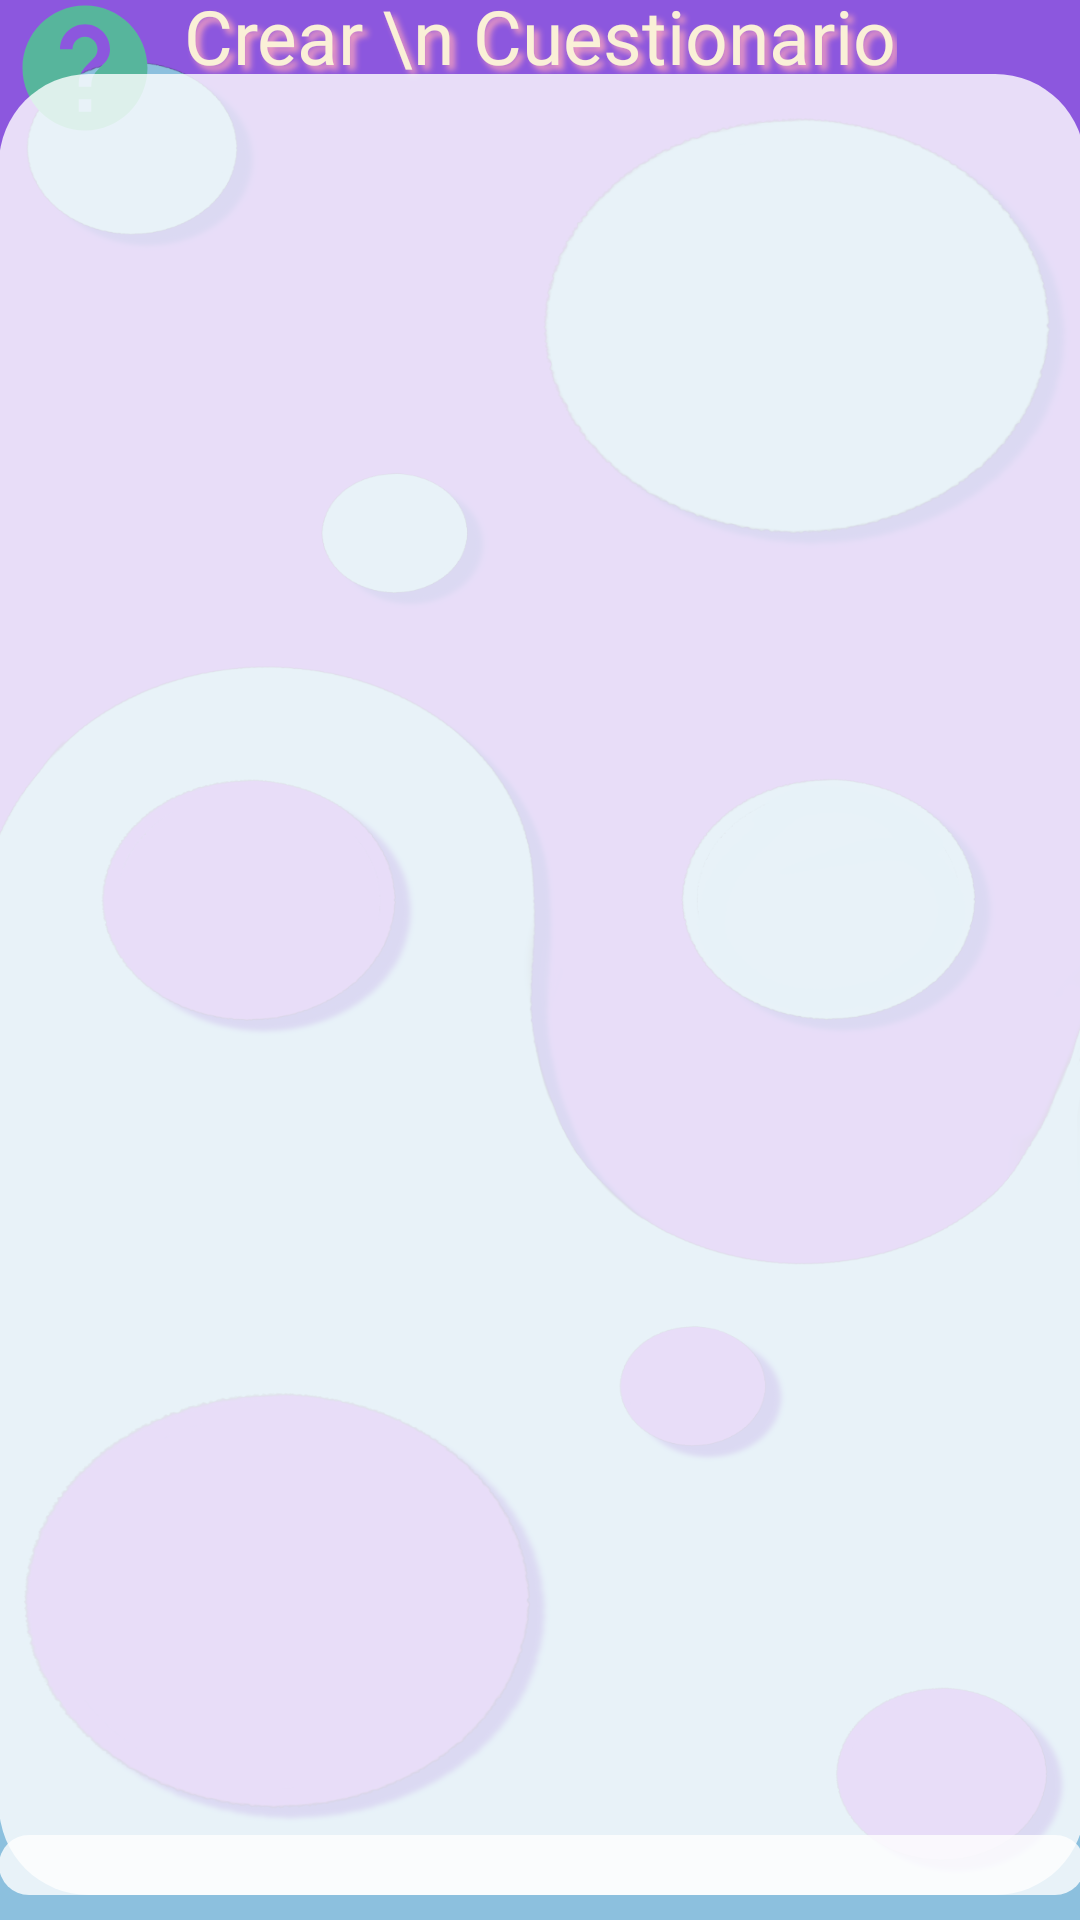

Screen size 1080 x 1920. Icon name, then its center in pixels as [x,y]:
help: [85,71]
